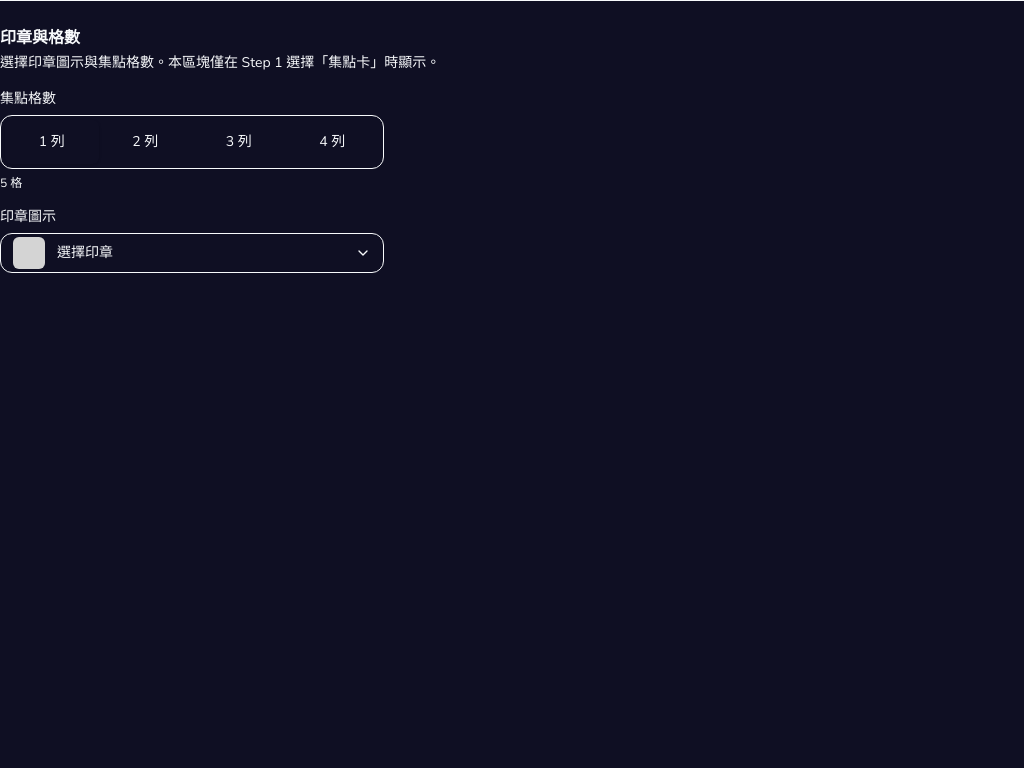
Test: Step3StampGrid — StampIconPicker (desktop) › closes the popover when clicking the X close button
Click the button "選擇印章". click: (29, 253)
box: x1=0 y1=233 x2=384 y2=273
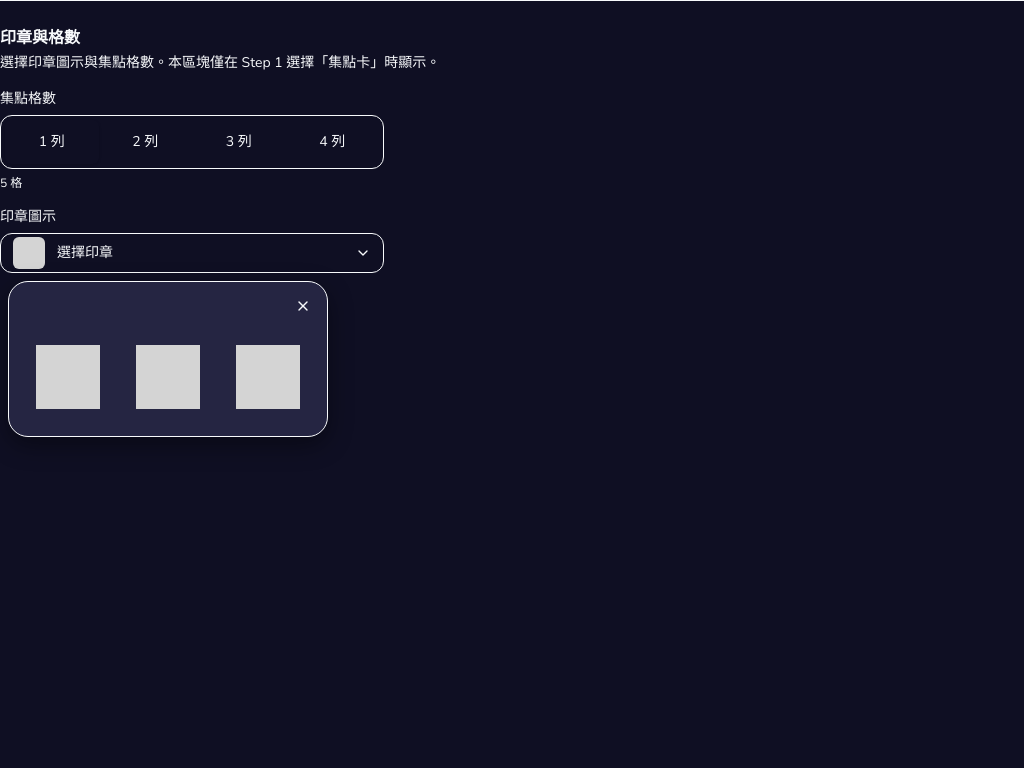
Expected: the dialog is shown, x1=8 y1=281 x2=328 y2=437
Click the button named "關閉印章選擇器". click: (303, 306)
box: x1=291 y1=294 x2=315 y2=318
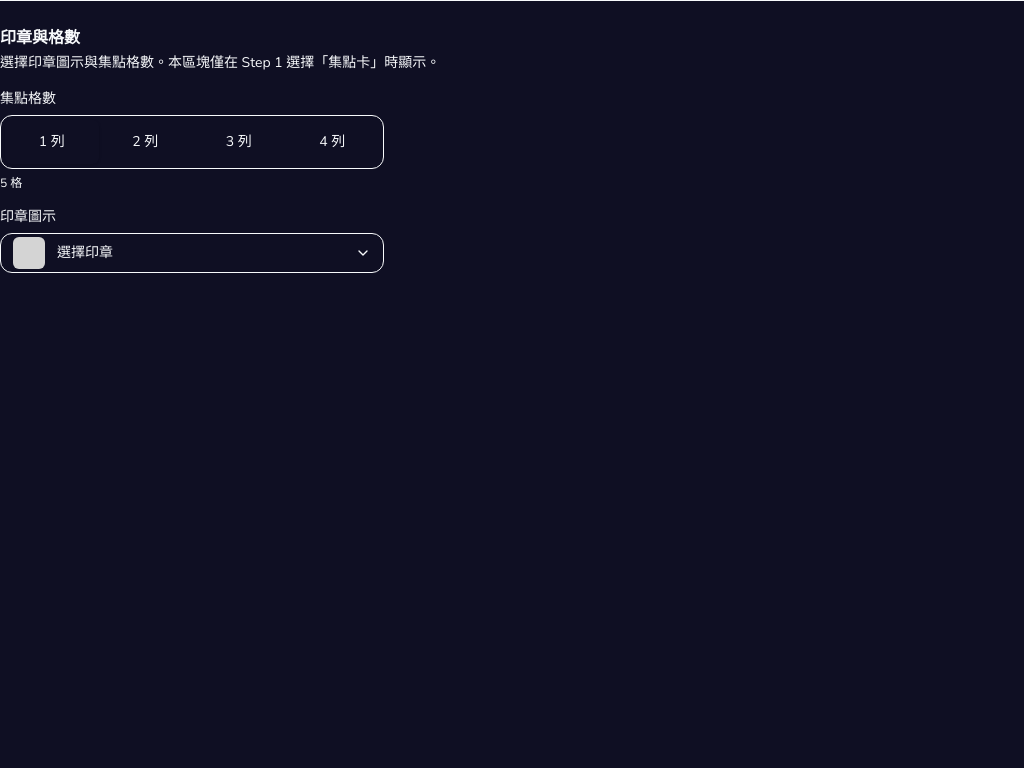
Expected: the dialog is gone
